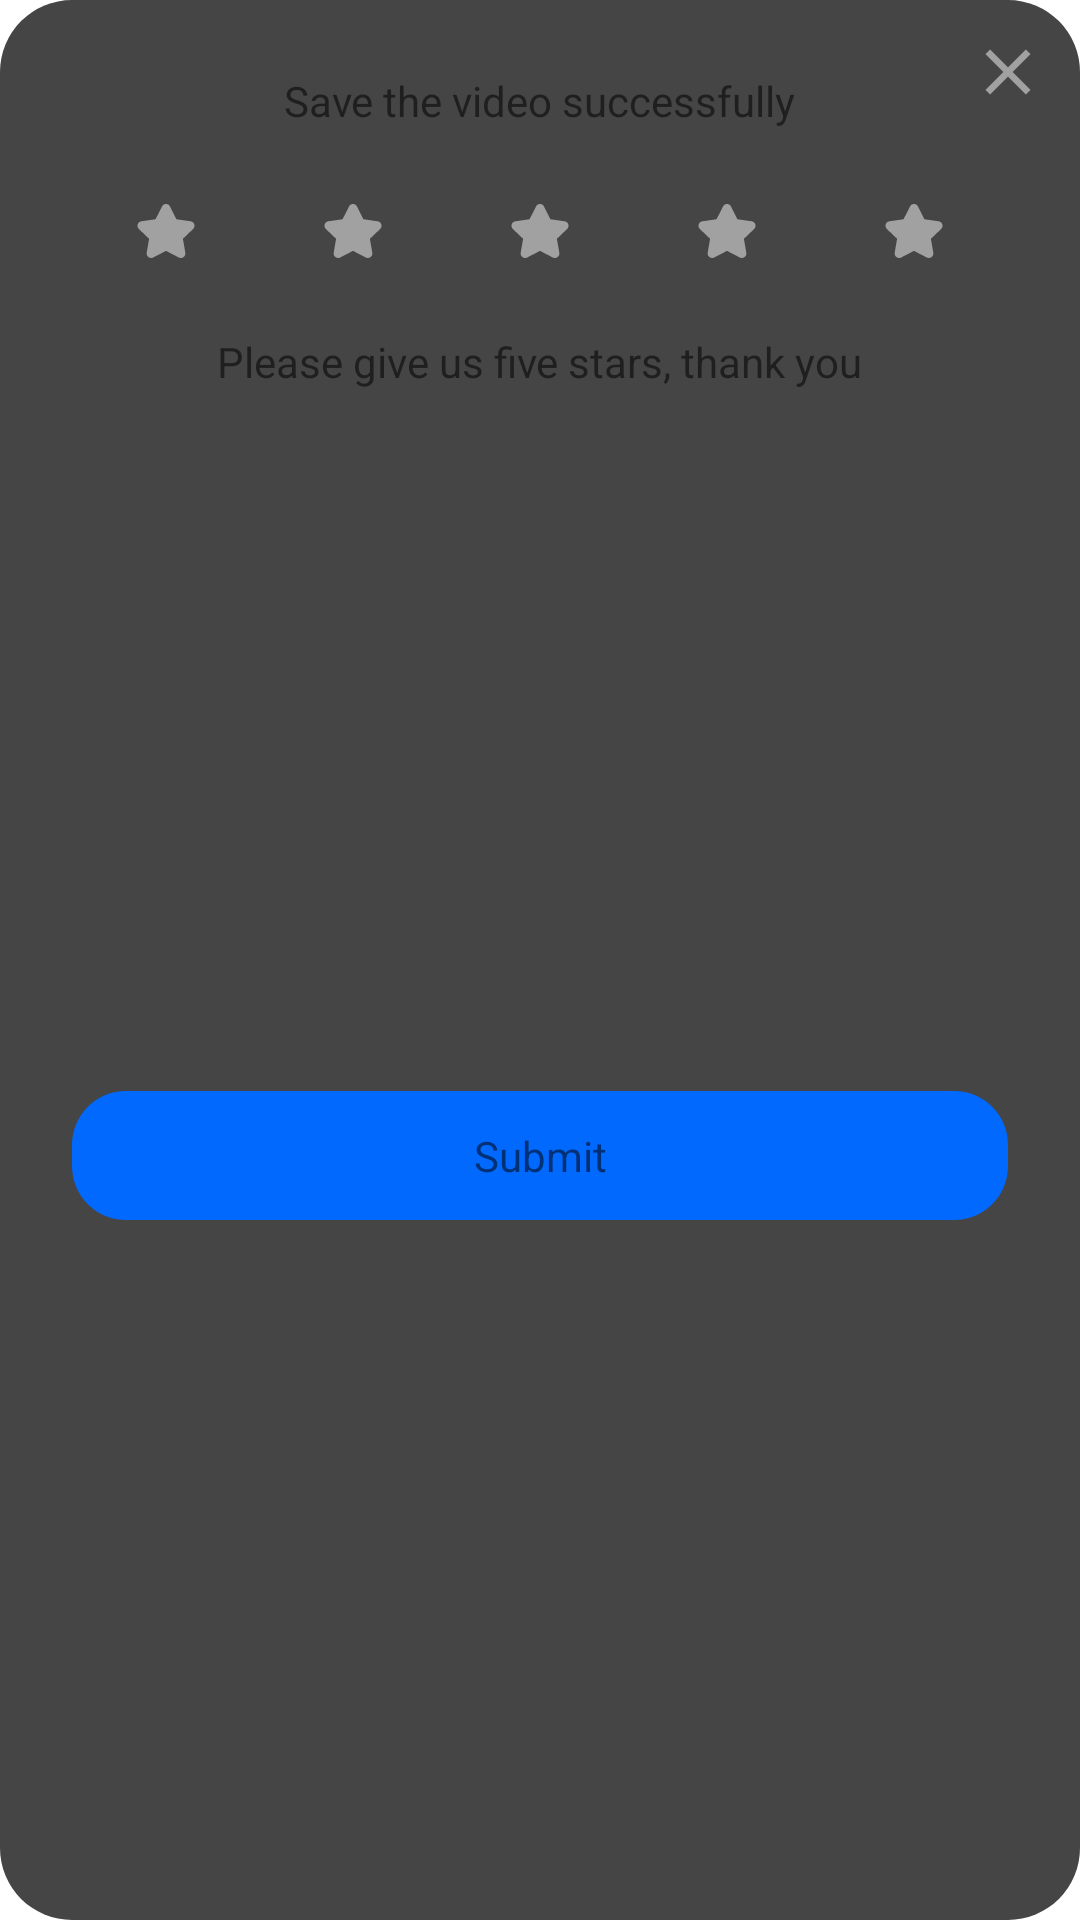

Named icons in this screenshot (1080 x 1920) and their bounding boxes, (x1,y1,x2,y2):
close: (986,50,1030,94)
